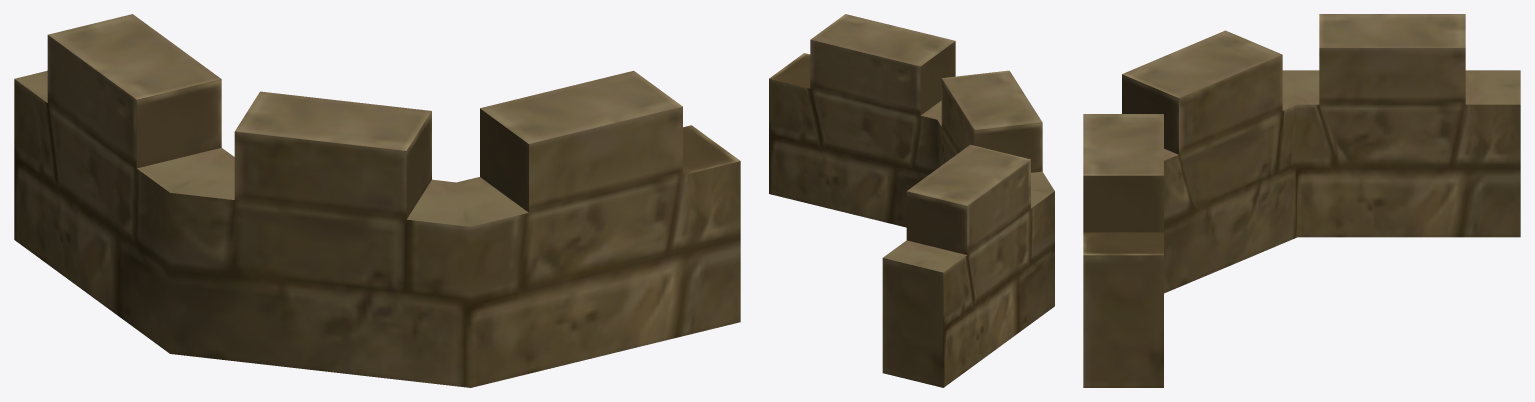
The model's file is Battle04_Cub_09.FBX.
The picture shows the model from 3 angles, left to right: view 1: azimuth 30°, elevation 25°; view 2: azimuth 150°, elevation 25°; view 3: azimuth 270°, elevation 25°; orthographic projection. The views are drawn at different scales.
Visible parts, largest first — view 1: Battle04_Cub_09; view 2: Battle04_Cub_09; view 3: Battle04_Cub_09.
Part boxes in pixels (x1,y1,x2,y2): Battle04_Cub_09: (14,14,740,387); Battle04_Cub_09: (769,14,1054,387); Battle04_Cub_09: (1083,14,1520,387).
Bounding box in the file's own units: 3.67 × 1.75 × 3.67.
